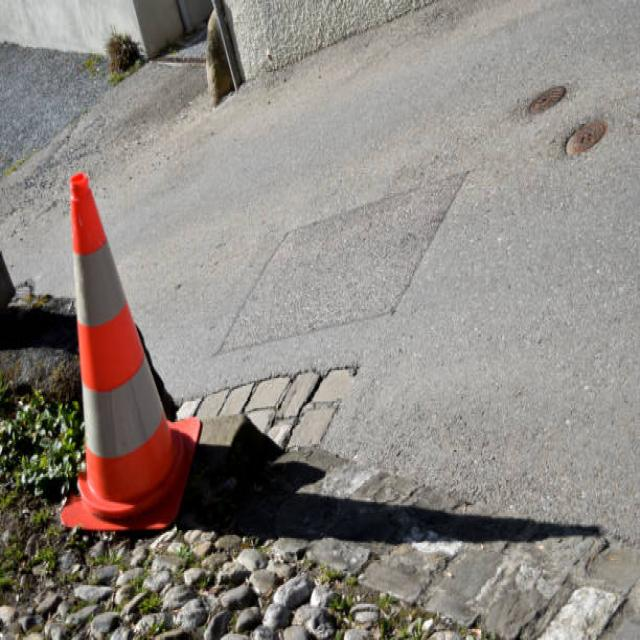Traffic Cone: (18, 126, 220, 566)
